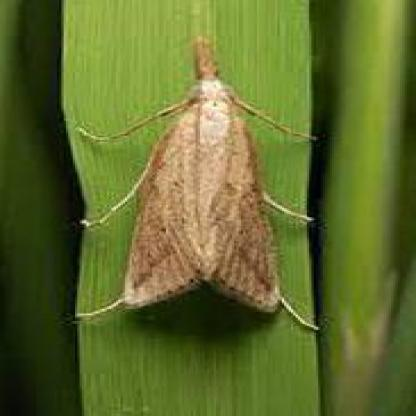stem-borer: (76, 34, 315, 336)
